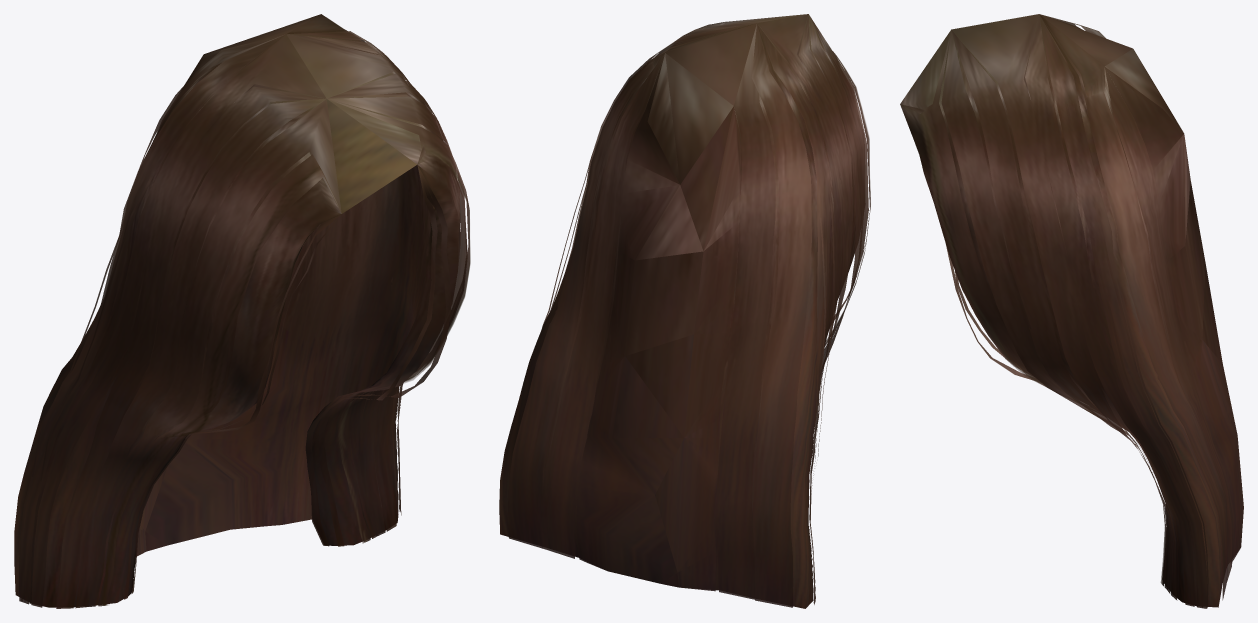
The model's file is medium-asian.glb.
3 renders of one model, left to right at view 1: azimuth 30°, elevation 25°; view 2: azimuth 150°, elevation 25°; view 3: azimuth 270°, elevation 25°, orthographic. The views are drawn at different scales.
Visible parts, largest first — view 1: hair_medium; view 2: hair_medium; view 3: hair_medium.
Boxes of the visible parts, <box> form: hair_medium: <box>14,14,470,608</box>; hair_medium: <box>499,14,870,608</box>; hair_medium: <box>900,14,1243,608</box>.
Bounding box in the file's own units: 0.2667 × 0.401 × 0.2464.
1 material, 1 textured.
